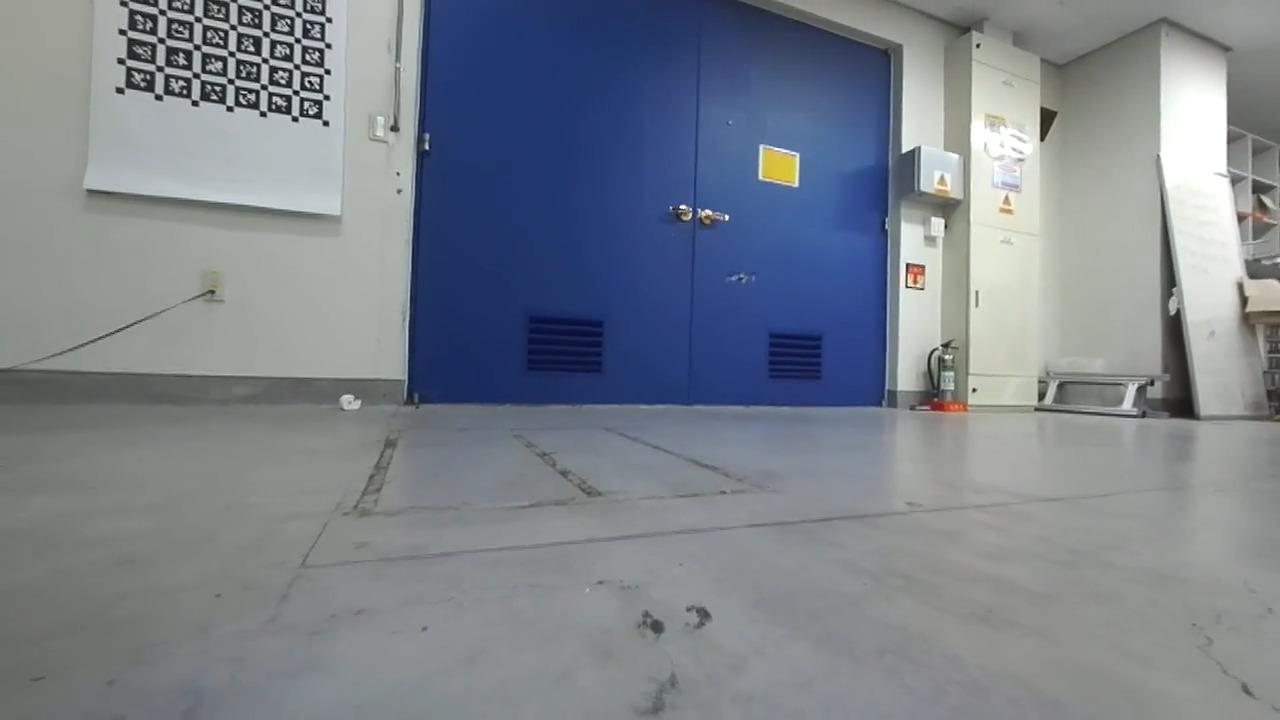crazyflie: (715, 267, 762, 291)
